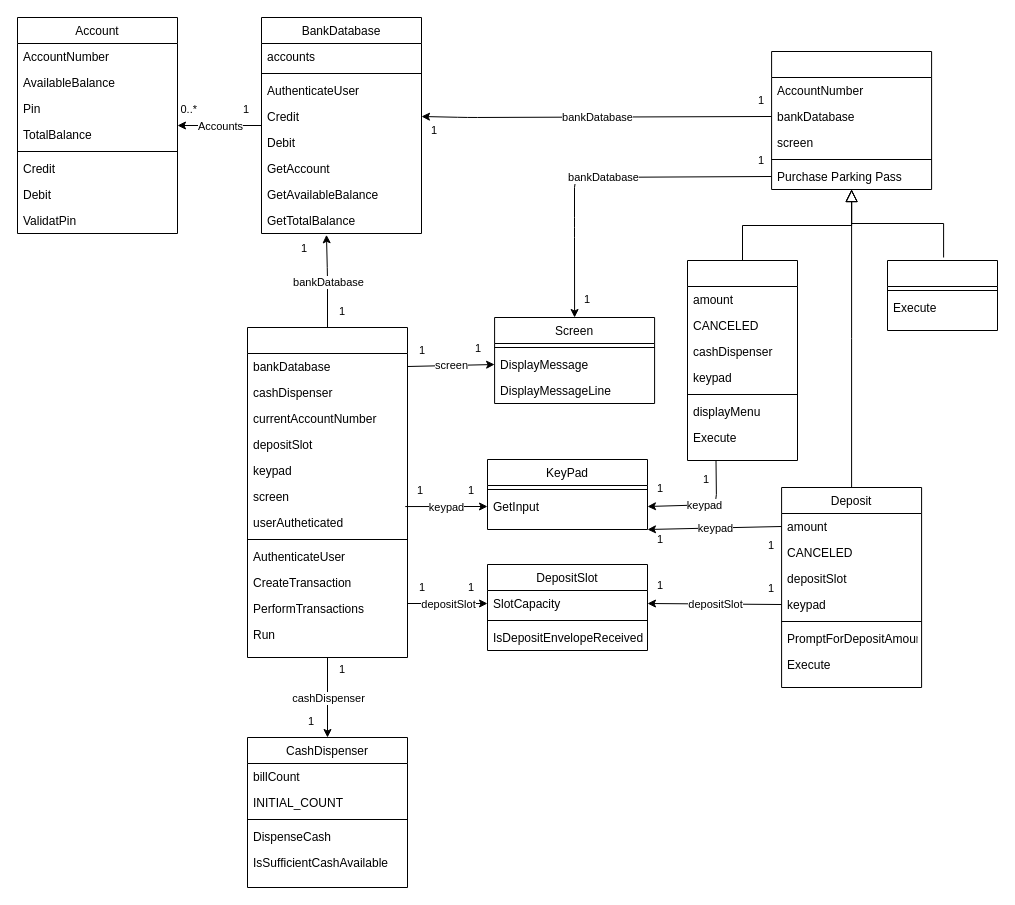
Some shapes in this 1015 by 905 pixel diagram are drawn without their labels. Each missing label, with the box of its shape:
ATM: (246, 326, 408, 658)
BalanceInquiry: (886, 260, 998, 330)
Transaction: (771, 50, 932, 190)
WithDrawal: (686, 260, 798, 460)
